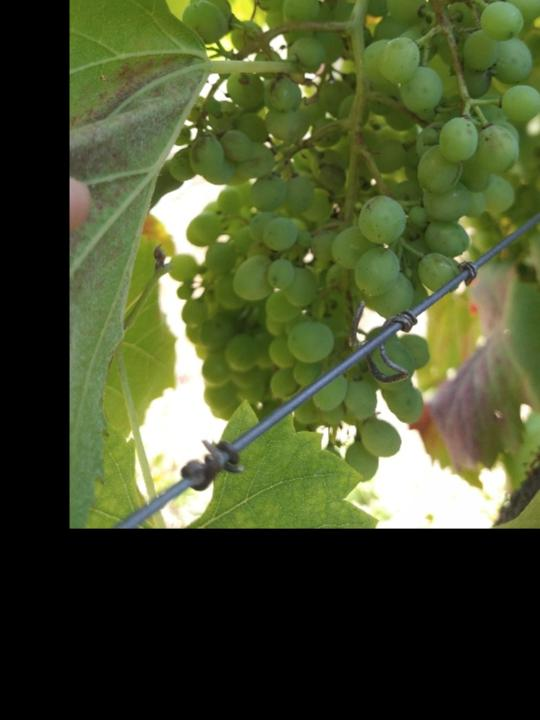grape: (168, 0, 540, 483)
